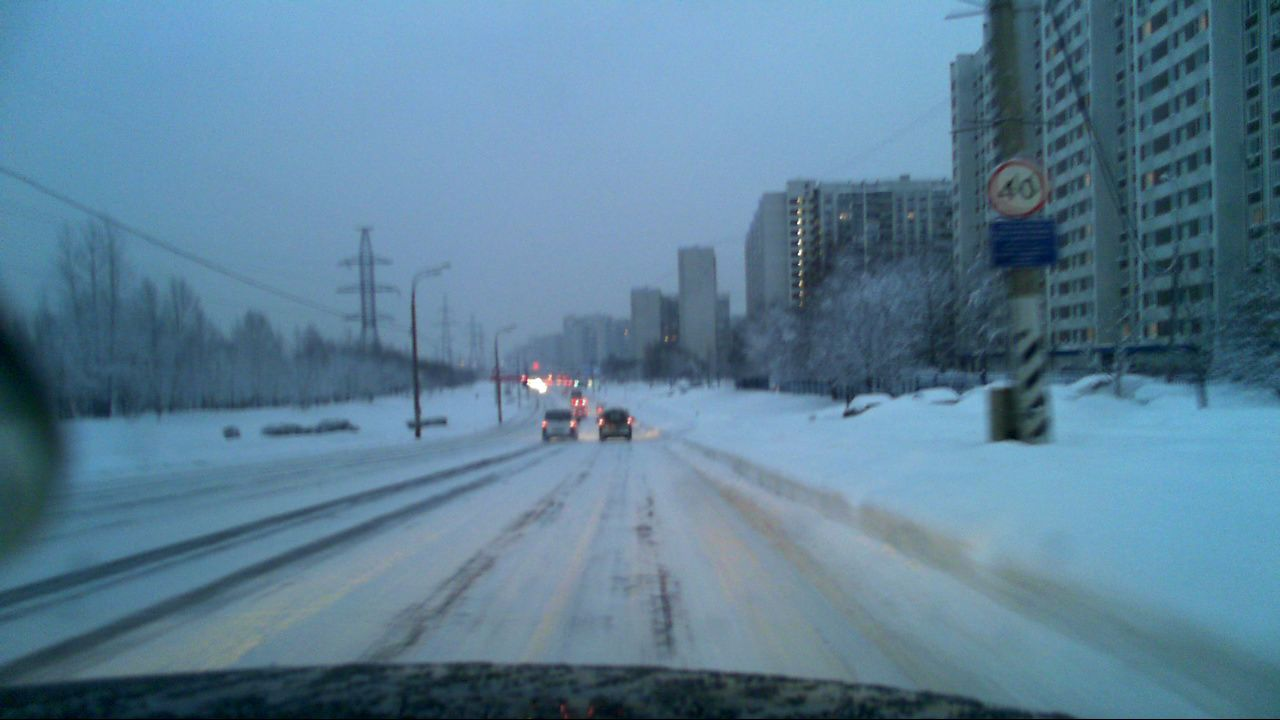speed_warning_40: (988, 158, 1046, 214)
